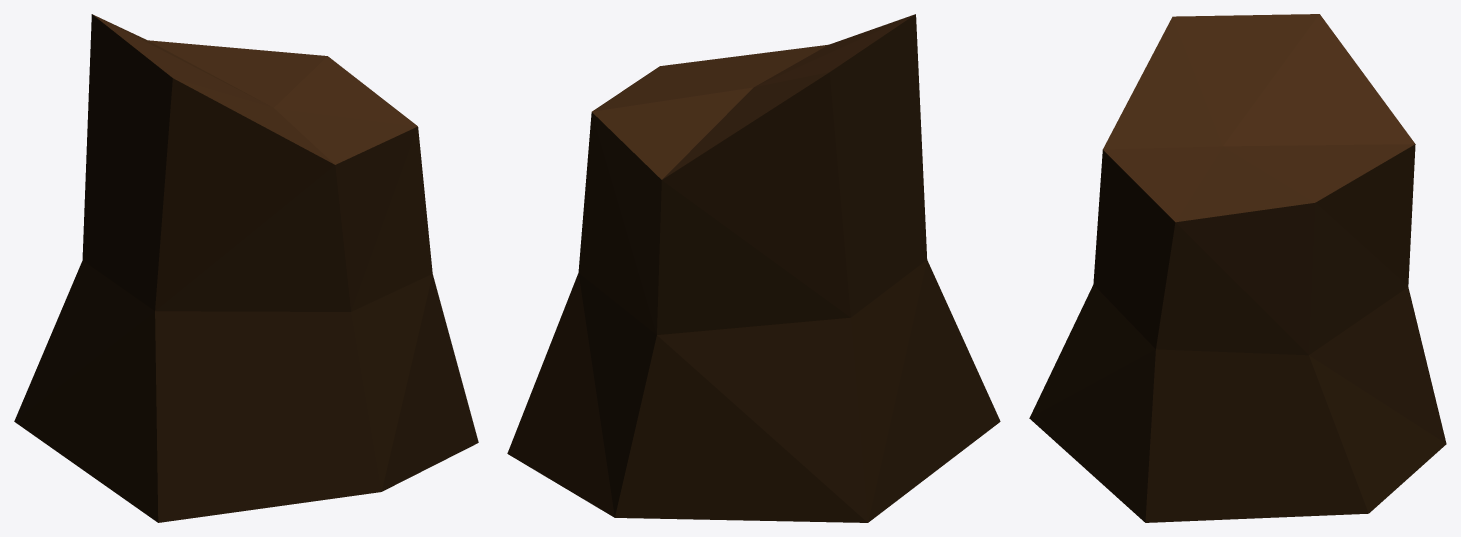
File: tree_stump_3.glb
3 views of the same model, side by side, from view 1: azimuth 30°, elevation 25°; view 2: azimuth 150°, elevation 25°; view 3: azimuth 270°, elevation 25° (orthographic). The views are drawn at different scales.
Parts seen in each view (by area): view 1: tree_stump_3; view 2: tree_stump_3; view 3: tree_stump_3.
Boxes of the visible parts, box(x1,y1,x2,y2) form: tree_stump_3: box(14, 14, 478, 522); tree_stump_3: box(507, 14, 1000, 522); tree_stump_3: box(1029, 14, 1446, 522).
Size of the model in its own units: 0.7332 by 0.8647 by 0.8544.
